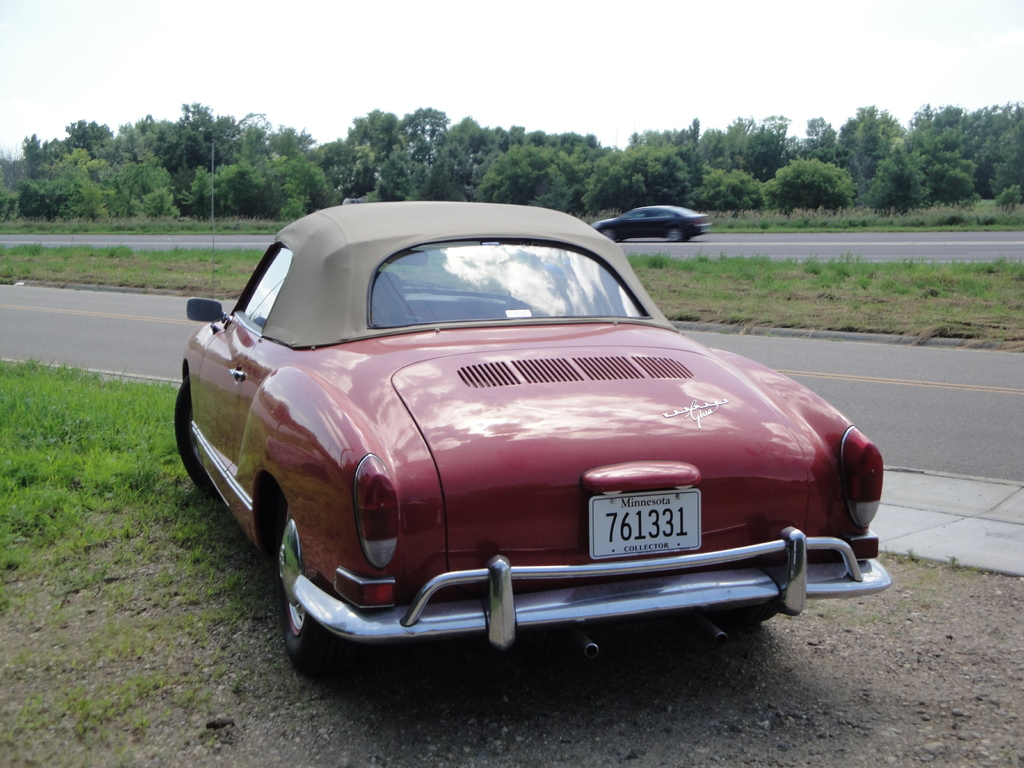car: (124, 196, 913, 671), (587, 191, 723, 256)
